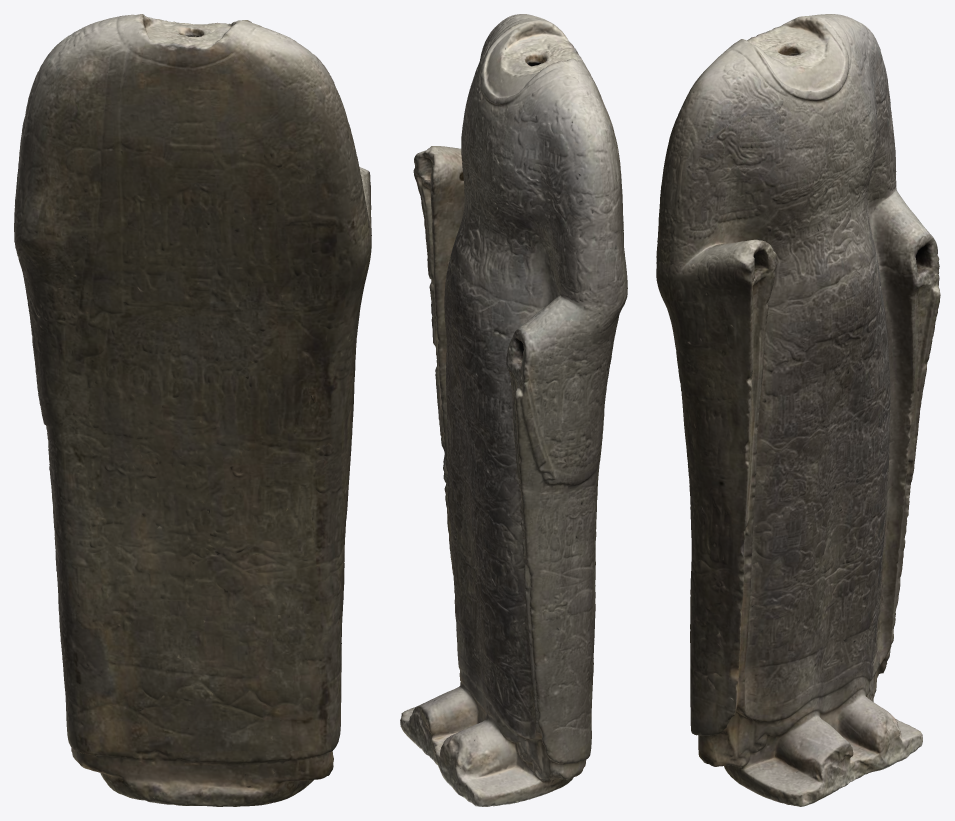
3 renders of one model, left to right at view 1: azimuth 30°, elevation 25°; view 2: azimuth 150°, elevation 25°; view 3: azimuth 270°, elevation 25°, orthographic. The views are drawn at different scales.
Size of the model in its own units: 590 by 1515 by 544.
Materials: 1 (1 with a texture image).
